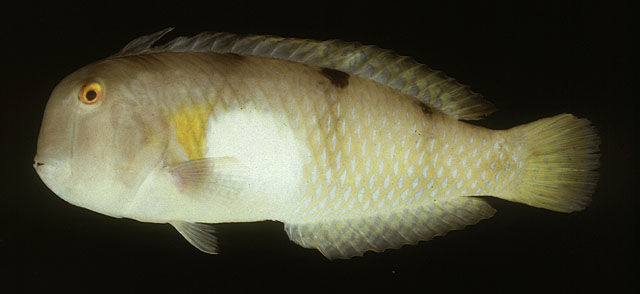fish: (31, 28, 599, 259)
